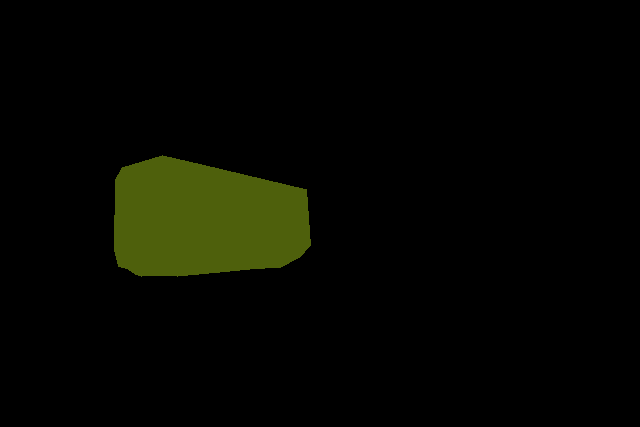Train: (114, 155, 311, 276)
